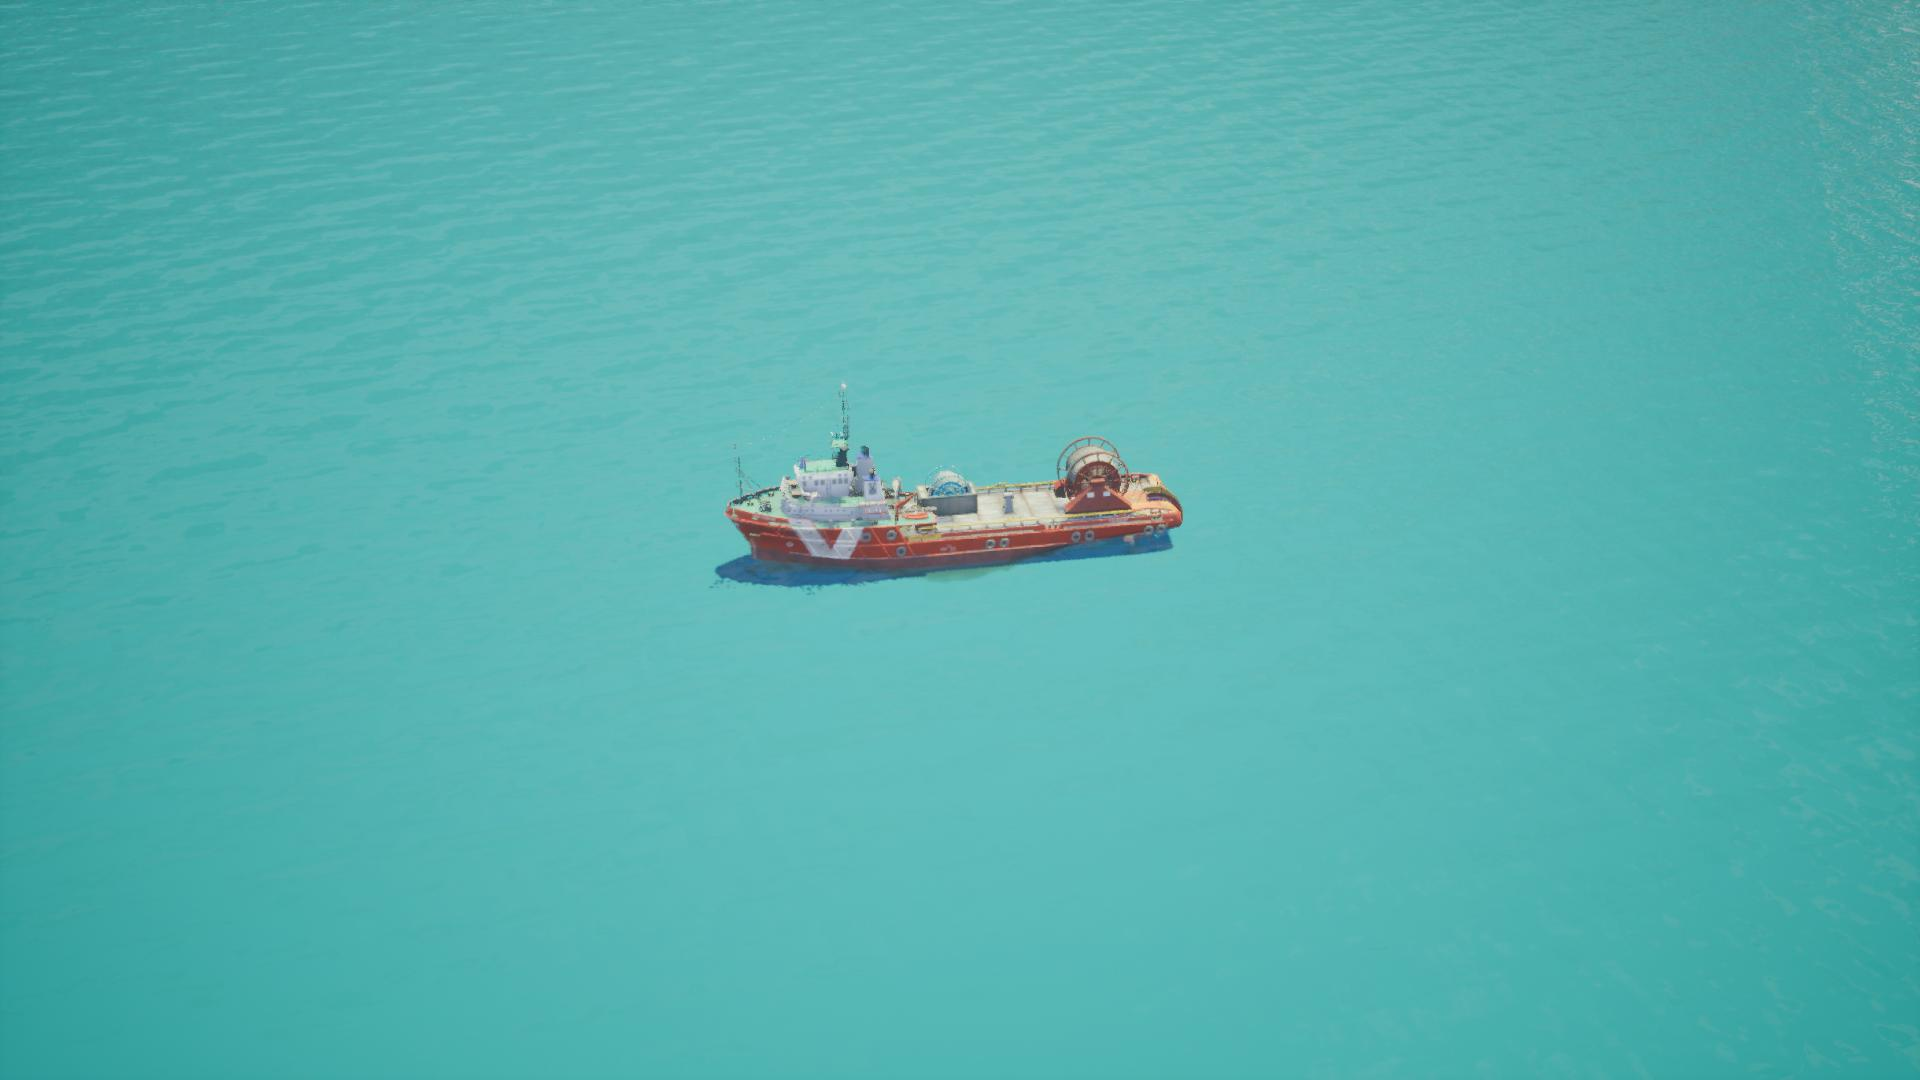Tug Boat: (716, 381, 1186, 582)
